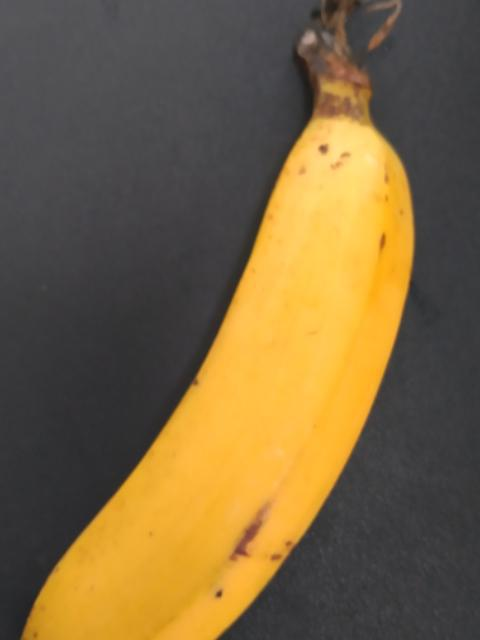freshripe: (0, 83, 430, 639)
